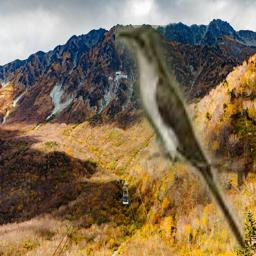Cuckoo: (115, 25, 245, 250)
